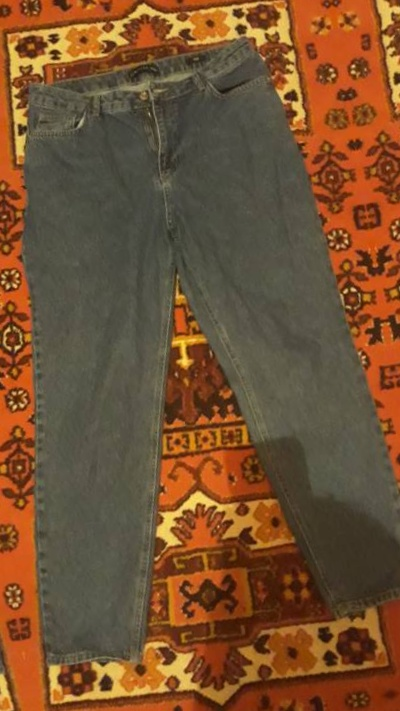Pants: (0, 15, 400, 701), (334, 0, 400, 638), (0, 88, 3, 711)
